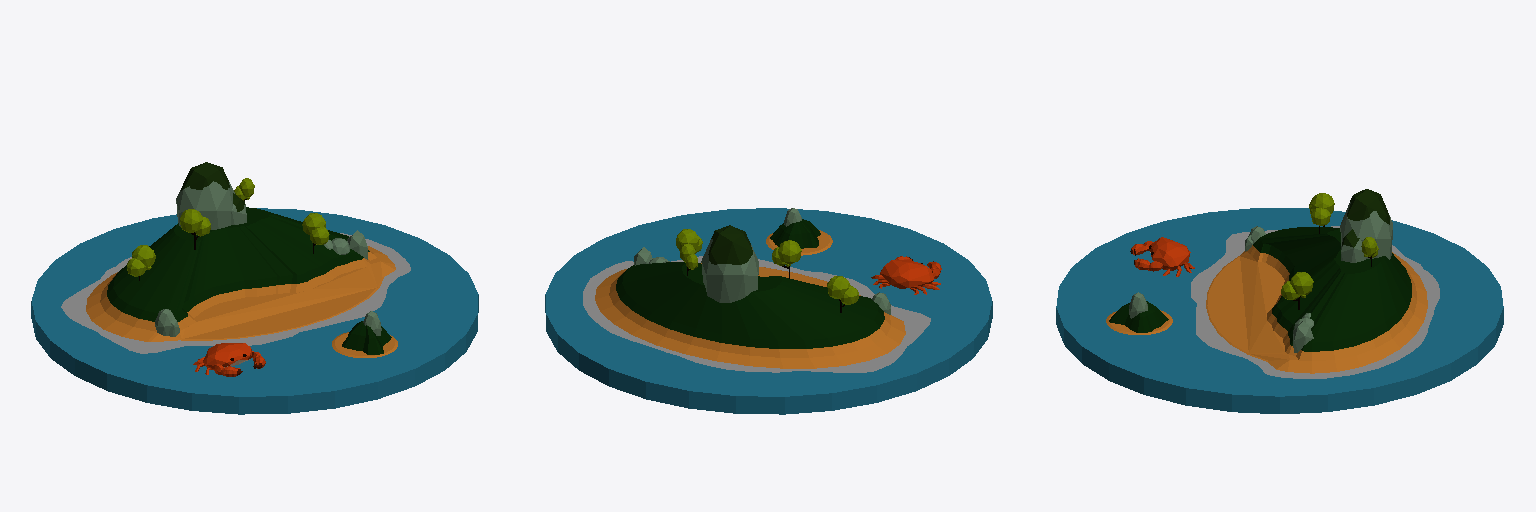
The model's file is island.obj.
The picture shows the model from 3 angles: view 1: azimuth 30°, elevation 25°; view 2: azimuth 150°, elevation 25°; view 3: azimuth 270°, elevation 25°; orthographic projection.
Visible parts, largest first — view 1: Bay_1250, Crab.1; view 2: Bay_1250, Crab.1; view 3: Bay_1250, Crab.1.
Part boxes in pixels (x1,y1,x2,y2): Bay_1250: (31, 162, 478, 414); Crab.1: (193, 343, 265, 376); Bay_1250: (545, 208, 992, 414); Crab.1: (871, 256, 941, 294); Bay_1250: (1056, 189, 1503, 413); Crab.1: (1130, 237, 1194, 276).
Bounding box in the file's own units: 23.33 × 7.38 × 23.36.